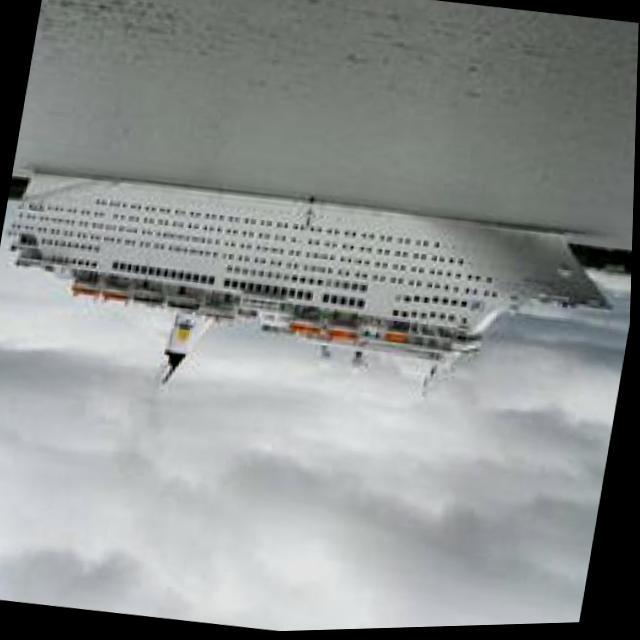ship2: (9, 168, 614, 403)
